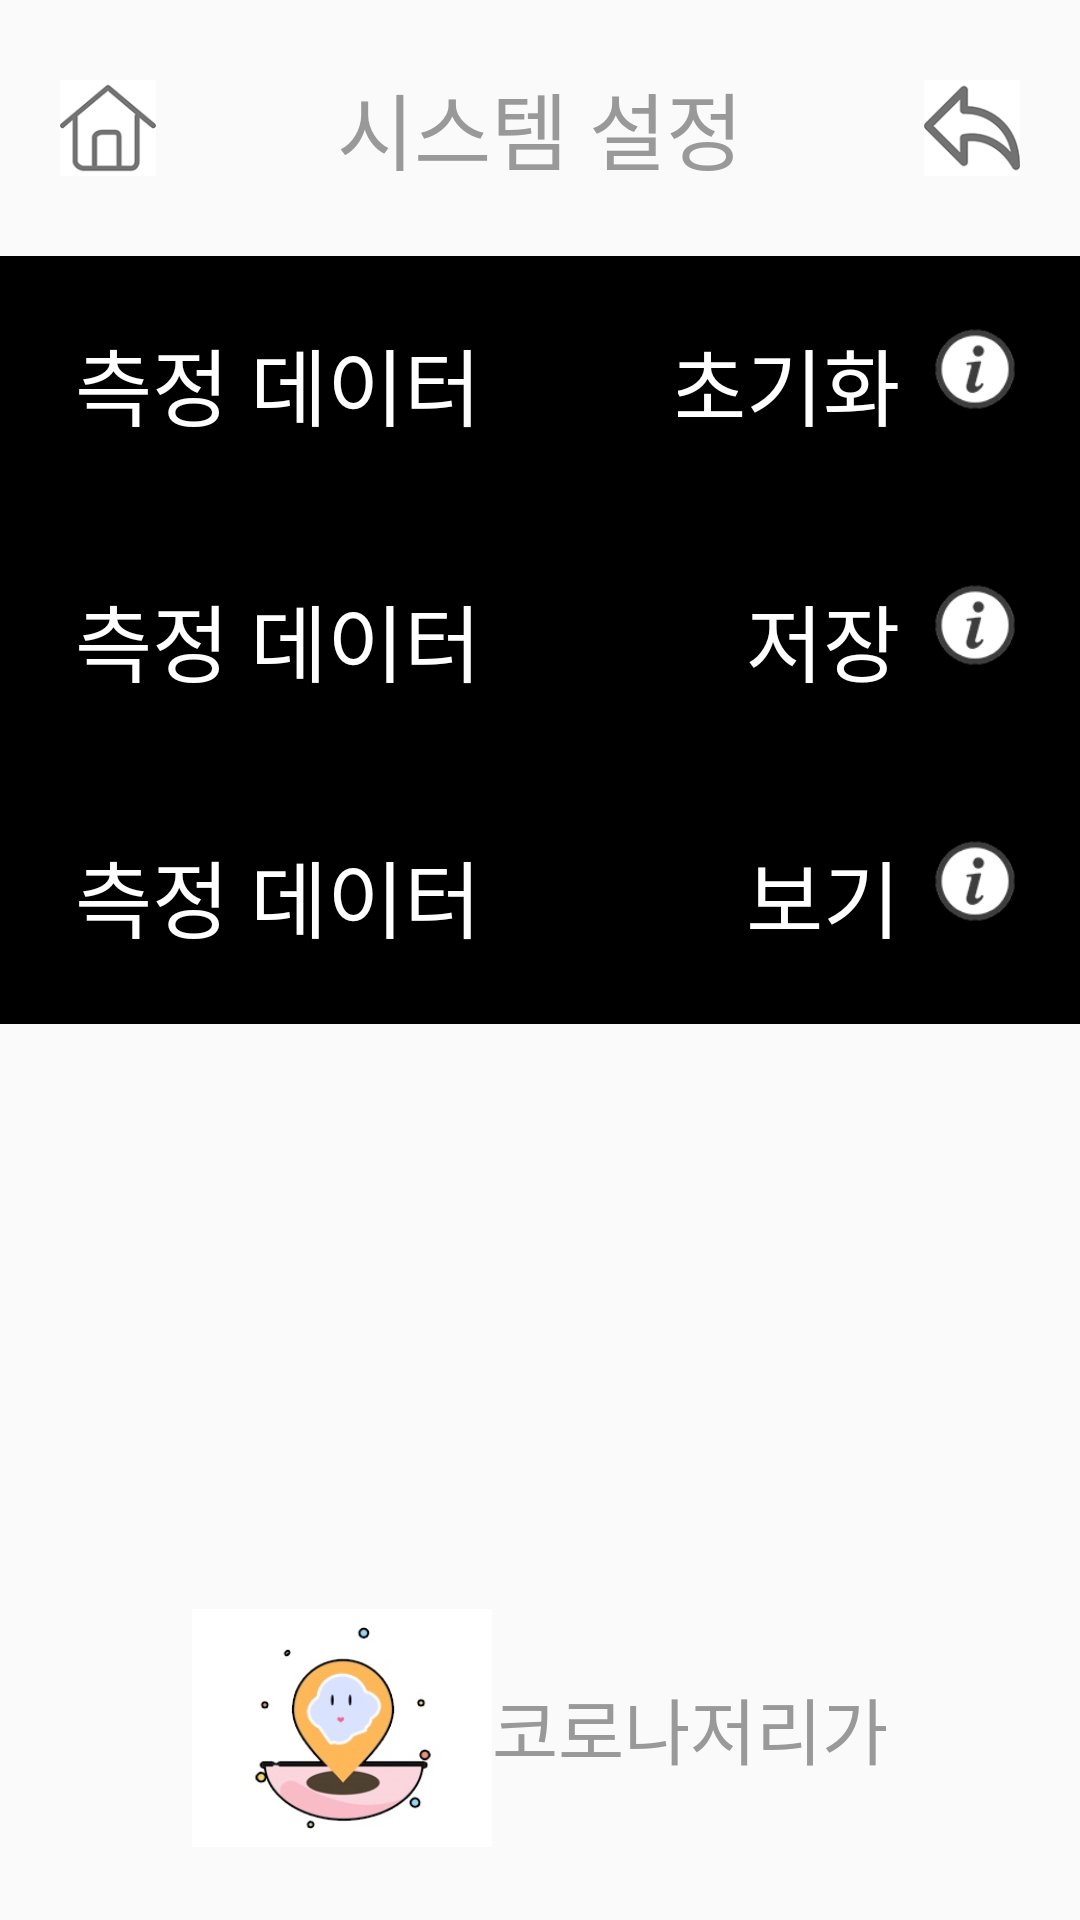

Icon click points for this 1080px x 1920px phone screenshot, format (x=x, y=y):
back: (x=972, y=128)
home: (x=108, y=128)
information: (x=975, y=369), (x=975, y=625), (x=975, y=881)
